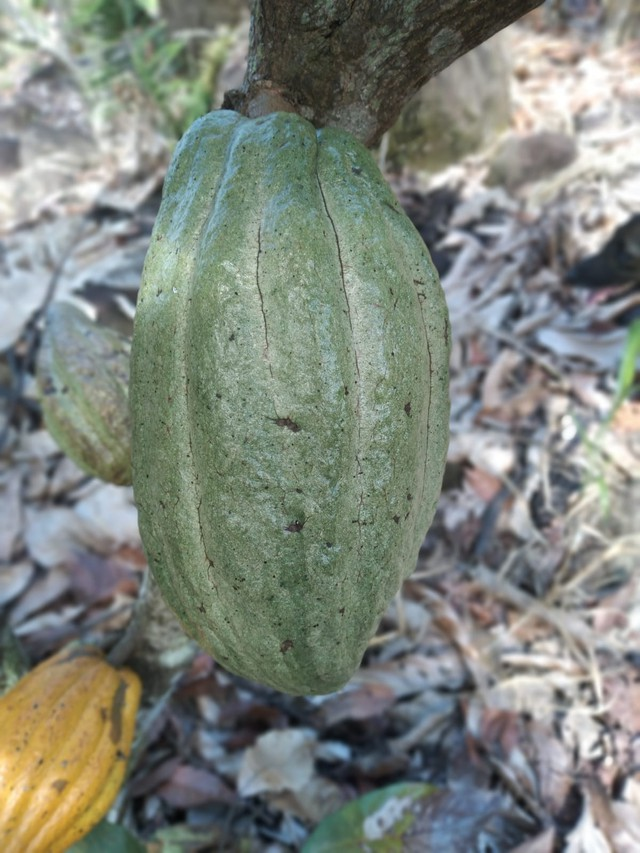Health: (109, 100, 477, 701)
